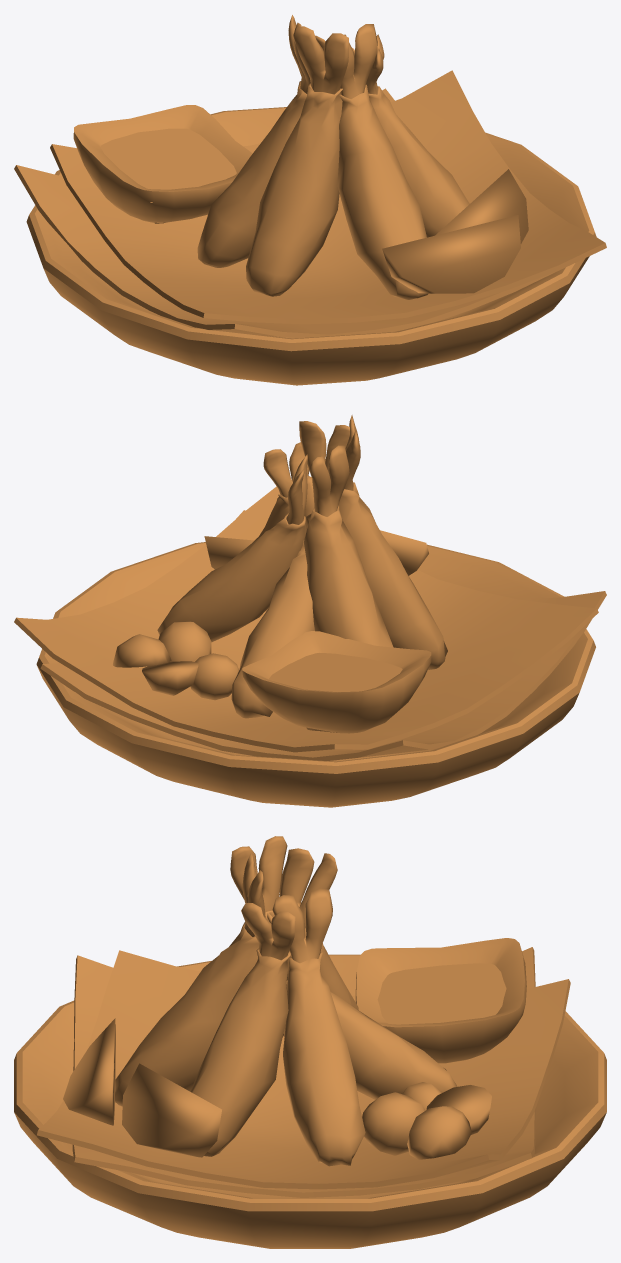
File: Food_Tempuras 1.fbx
3 views of the same model, one above another, from view 1: azimuth 30°, elevation 25°; view 2: azimuth 150°, elevation 25°; view 3: azimuth 270°, elevation 25° (orthographic). The views are drawn at different scales.
Visible parts, largest first — view 1: m_Servilleta_02, m_Plato, m_Tempura_04, m_Tempura_03, m_Servilleta_01, m_Tazoncito, m_Limon_02, m_Tempura_05, m_Salsa, m_Tempura_02, m_Limon_01; view 2: m_Servilleta_02, m_Plato, m_Tazoncito, m_Tempura_05, m_Servilleta_01, m_Tempura_01, m_Tempura_04, m_Tempura_06, m_Salsa, m_Tempura_02, m_Tomate_04, m_Tomate_02 (+5 smaller); view 3: m_Plato, m_Servilleta_02, m_Tempura_01, m_Tempura_02, m_Tazoncito, m_Tempura_03, m_Servilleta_01, m_Salsa, m_Limon_01, m_Tempura_06, m_Limon_02, m_Tempura_05 (+5 smaller).
Boxes of the visible parts, x1=… form: m_Servilleta_02: x1=50, y1=70, x2=606, y2=324; m_Plato: x1=26, y1=107, x2=596, y2=385; m_Tempura_04: x1=246, y1=26, x2=348, y2=296; m_Tempura_03: x1=328, y1=24, x2=428, y2=299; m_Servilleta_01: x1=14, y1=88, x2=556, y2=337; m_Tazoncito: x1=73, y1=105, x2=252, y2=223; m_Limon_02: x1=382, y1=215, x2=520, y2=293; m_Tempura_05: x1=197, y1=15, x2=310, y2=267; m_Salsa: x1=101, y1=128, x2=236, y2=202; m_Tempura_02: x1=366, y1=34, x2=469, y2=237; m_Limon_01: x1=435, y1=169, x2=528, y2=243; m_Servilleta_02: x1=14, y1=486, x2=598, y2=752; m_Plato: x1=36, y1=542, x2=595, y2=807; m_Tazoncito: x1=242, y1=631, x2=431, y2=733; m_Tempura_05: x1=304, y1=445, x2=393, y2=647; m_Servilleta_01: x1=40, y1=510, x2=606, y2=760; m_Tempura_01: x1=157, y1=454, x2=307, y2=642; m_Tempura_04: x1=338, y1=415, x2=447, y2=669; m_Tempura_06: x1=231, y1=475, x2=314, y2=718; m_Salsa: x1=269, y1=653, x2=402, y2=691; m_Tempura_02: x1=258, y1=442, x2=309, y2=611; m_Tomate_04: x1=190, y1=653, x2=238, y2=700; m_Tomate_02: x1=158, y1=621, x2=211, y2=661; m_Plato: x1=14, y1=954, x2=606, y2=1248; m_Servilleta_02: x1=37, y1=950, x2=570, y2=1189; m_Tempura_01: x1=272, y1=888, x2=365, y2=1166; m_Tempura_02: x1=190, y1=903, x2=295, y2=1156; m_Tazoncito: x1=355, y1=938, x2=526, y2=1063; m_Tempura_03: x1=115, y1=853, x2=265, y2=1106; m_Servilleta_01: x1=72, y1=947, x2=536, y2=1197; m_Salsa: x1=377, y1=963, x2=506, y2=1024; m_Limon_01: x1=122, y1=1063, x2=221, y2=1157; m_Tempura_06: x1=267, y1=913, x2=457, y2=1099; m_Limon_02: x1=63, y1=1018, x2=115, y2=1125; m_Tempura_05: x1=279, y1=848, x2=358, y2=1036.
Size of the model in its own units: 116 by 69.1 by 116.
